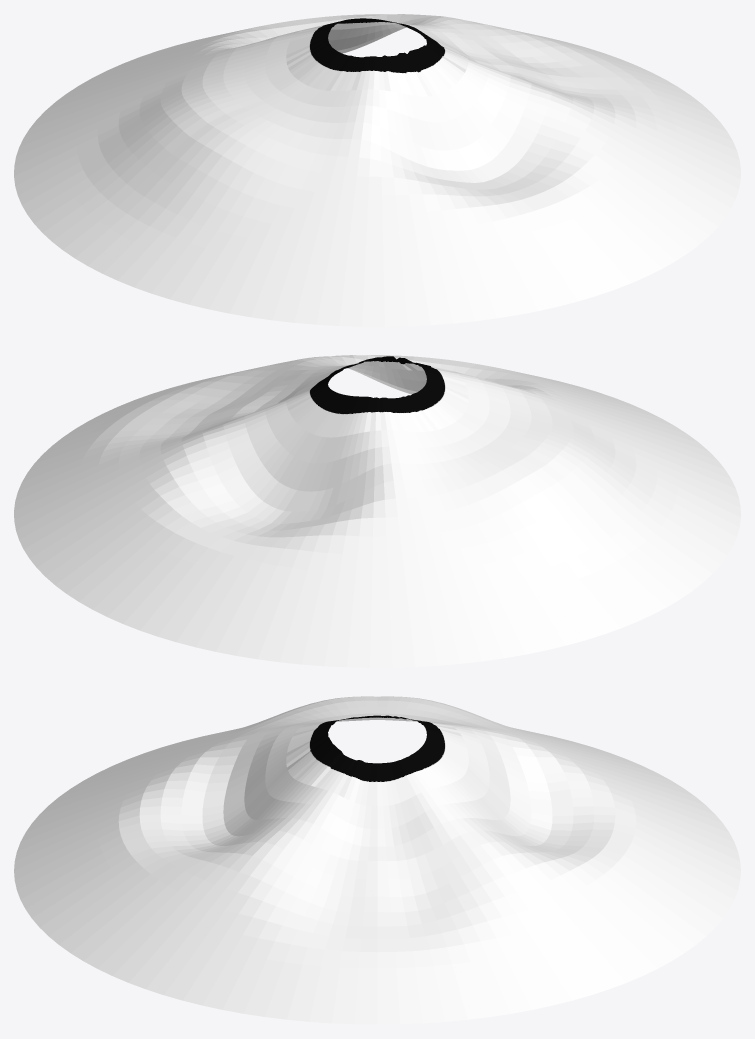
File: xiedu.glb
The picture shows the model from 3 angles, top to bottom: view 1: azimuth 30°, elevation 25°; view 2: azimuth 150°, elevation 25°; view 3: azimuth 270°, elevation 25°; orthographic projection.
Parts seen in each view (by area): view 1: xiedu; view 2: xiedu; view 3: xiedu.
Boxes of the visible parts, x1,y1,x2,y2 form: xiedu: (14,14,740,326); xiedu: (14,355,740,667); xiedu: (14,696,740,1024).
Size of the model in its own units: 6.29 by 1.33 by 6.29.
Materials: 1 (1 with a texture image).
